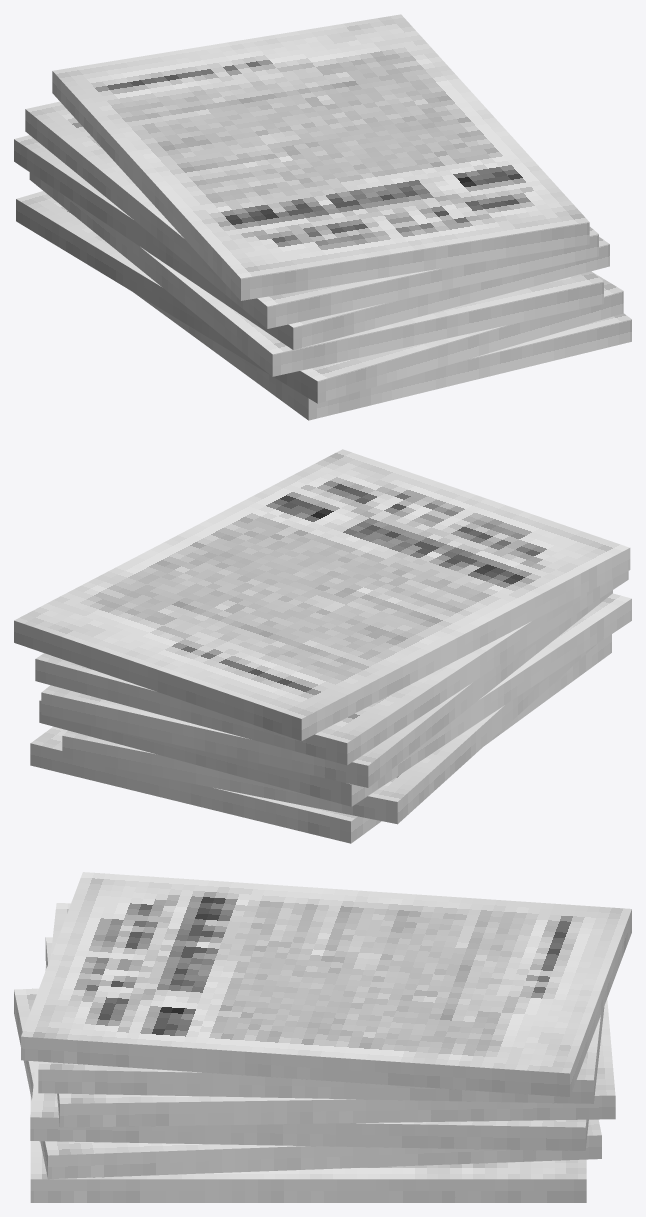
The model's file is PaperStack.fbx.
The picture shows the model from 3 angles, top to bottom: view 1: azimuth 30°, elevation 25°; view 2: azimuth 150°, elevation 25°; view 3: azimuth 270°, elevation 25°; orthographic projection. The views are drawn at different scales.
Parts seen in each view (by area): view 1: Cube.005, Cube.004, Cube.002, Cube.003, Cube.001, Cube; view 2: Cube.005, Cube.004, Cube.001, Cube.002, Cube.003, Cube; view 3: Cube.005, Cube, Cube.001, Cube.003, Cube.002, Cube.004.
Part boxes in pixels (x1,y1,x2,y2): Cube.005: [52, 14, 589, 300]; Cube.004: [25, 101, 598, 328]; Cube.002: [29, 172, 603, 376]; Cube.003: [16, 191, 623, 403]; Cube.001: [14, 135, 609, 349]; Cube: [135, 293, 631, 420]; Cube.005: [14, 449, 630, 740]; Cube.004: [35, 571, 628, 765]; Cube.001: [41, 590, 612, 787]; Cube.002: [39, 593, 631, 806]; Cube.003: [62, 644, 596, 824]; Cube: [30, 634, 611, 843]; Cube.005: [21, 872, 631, 1097]; Cube: [30, 1096, 586, 1202]; Cube.001: [45, 937, 615, 1127]; Cube.003: [14, 988, 601, 1179]; Cube.002: [30, 965, 588, 1151]; Cube.004: [38, 903, 604, 1103].
Bounding box in the file's own units: 54.34 × 17.86 × 70.43.
